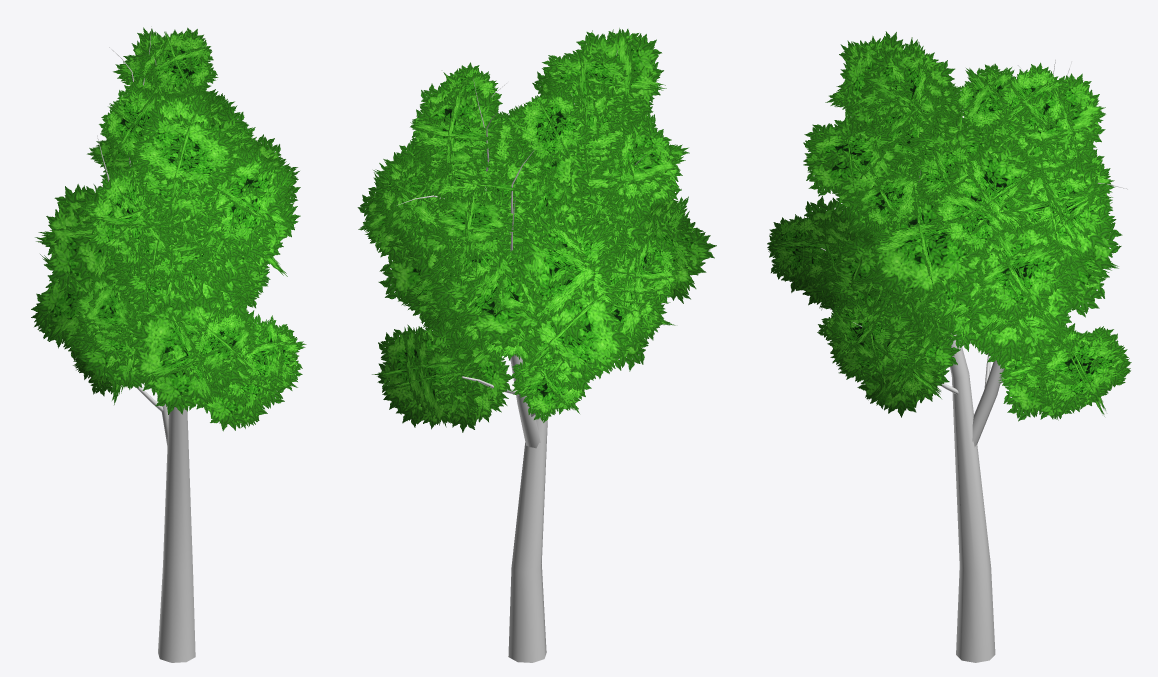
File: BirchTree2.fbx
3 renders of one model, left to right at view 1: azimuth 30°, elevation 25°; view 2: azimuth 150°, elevation 25°; view 3: azimuth 270°, elevation 25°, orthographic.
Parts seen in each view (by area): view 1: BirchTree2Leaves, BirchTree2; view 2: BirchTree2Leaves, BirchTree2; view 3: BirchTree2Leaves, BirchTree2.
Part boxes in pixels (bbox=[...]): BirchTree2Leaves: bbox=[31, 27, 306, 431]; BirchTree2: bbox=[97, 26, 195, 662]; BirchTree2Leaves: bbox=[357, 28, 716, 432]; BirchTree2: bbox=[397, 50, 645, 662]; BirchTree2Leaves: bbox=[767, 31, 1131, 421]; BirchTree2: bbox=[820, 60, 1127, 662].
Bounding box in the file's own units: 567 × 1107 × 621.
